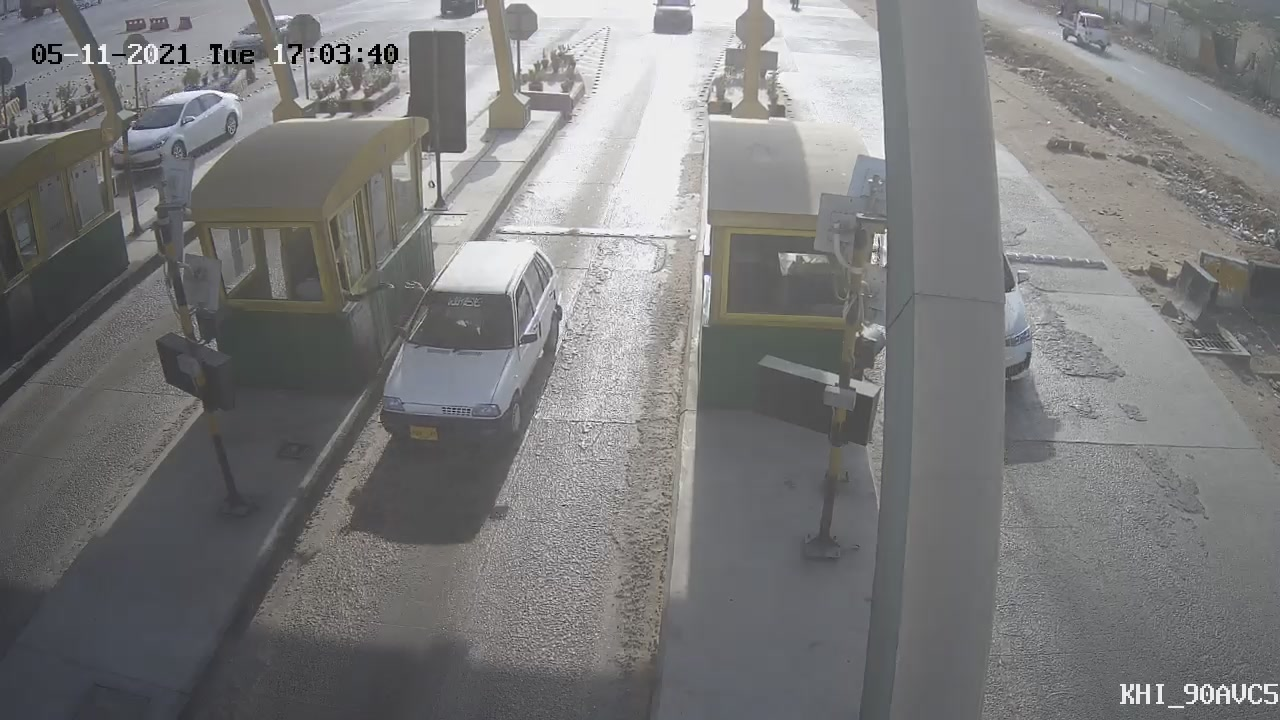F1: (355, 216, 600, 487)
